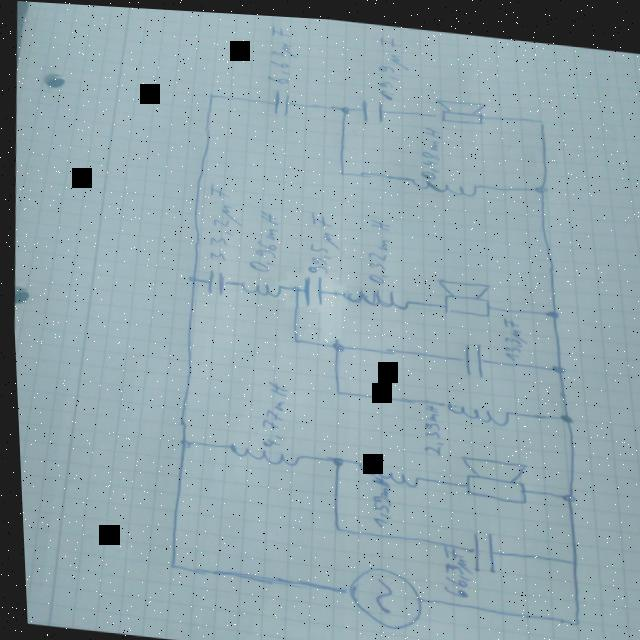capacitor: (465, 523, 492, 570), (457, 335, 482, 375), (298, 270, 322, 306), (359, 92, 384, 123), (202, 266, 224, 295), (270, 86, 290, 114)
inductor: (333, 280, 411, 308), (349, 456, 420, 485), (435, 396, 510, 423), (222, 440, 300, 465), (404, 169, 481, 194), (233, 274, 284, 296)
junction: (323, 334, 347, 352), (539, 298, 561, 317), (553, 481, 575, 500), (543, 354, 565, 372), (323, 449, 346, 466), (157, 555, 178, 573), (529, 174, 551, 191), (172, 431, 191, 449), (181, 269, 200, 285), (324, 518, 344, 532), (560, 609, 579, 623), (554, 404, 571, 419), (335, 99, 352, 113), (285, 330, 302, 344), (285, 280, 300, 294), (204, 87, 219, 100), (532, 109, 547, 121), (560, 550, 575, 562), (328, 383, 342, 394), (334, 164, 347, 175)
source: (338, 560, 420, 631)
text: (203, 179, 244, 261), (374, 30, 411, 99), (302, 207, 338, 273), (244, 206, 279, 273), (253, 377, 286, 446), (264, 21, 299, 83), (362, 215, 393, 281), (433, 541, 466, 595), (415, 121, 442, 177), (362, 472, 389, 525), (415, 399, 442, 451), (497, 312, 526, 357)
